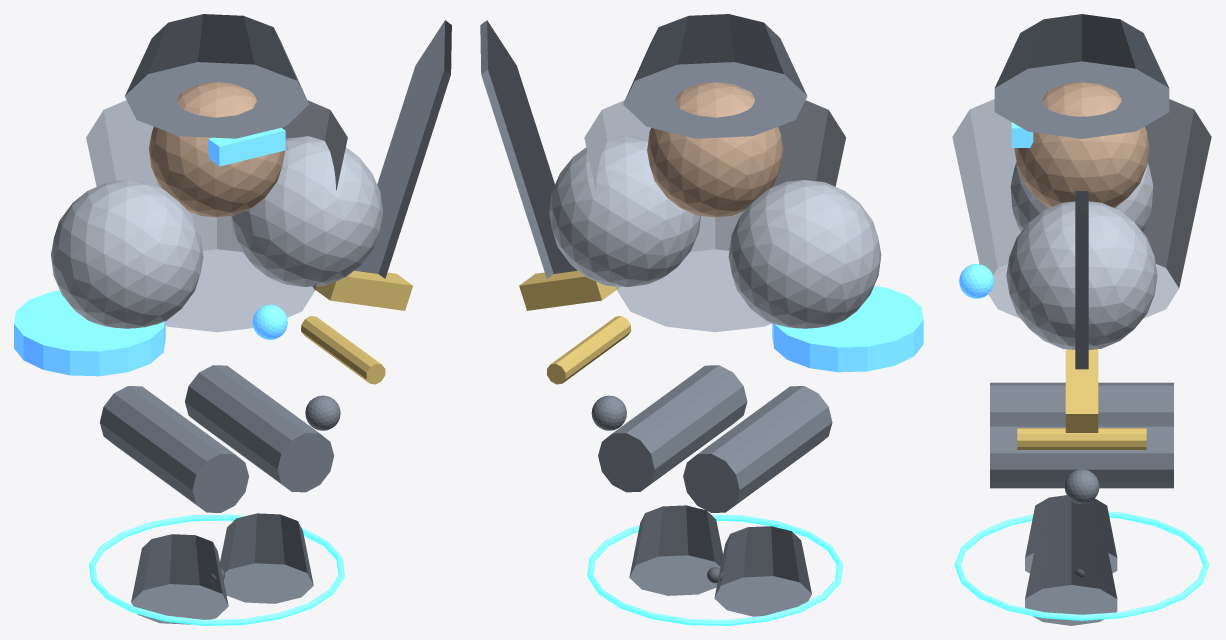
The model's file is arcane-knight-v2.glb.
3 views of the same model, side by side, from view 1: azimuth 30°, elevation 25°; view 2: azimuth 150°, elevation 25°; view 3: azimuth 270°, elevation 25° (orthographic).
Parts seen in each view (by area): view 1: Shoulder_-1, Shoulder_1, Helmet, Torso, Leg_1, Leg_-1, Head, Shield, Weapon_0, Boot_1, Boot_-1, SelectionRing (+5 smaller); view 2: Shoulder_-1, Shoulder_1, Helmet, Torso, Head, Leg_1, Leg_-1, Shield, Weapon_0, Boot_-1, Boot_1, SelectionRing (+3 smaller); view 3: Torso, Shoulder_1, Helmet, Head, Leg_1, Boot_1, Leg_-1, Boot_-1, SelectionRing, Weapon_2, Weapon_1, Weapon_0 (+4 smaller).
Boxes of the visible parts, <box> form: Shoulder_-1: <box>51,180,203,328</box>; Shoulder_1: <box>231,136,382,286</box>; Helmet: <box>125,14,308,138</box>; Torso: <box>86,100,347,332</box>; Leg_1: <box>185,365,334,492</box>; Leg_-1: <box>99,386,248,512</box>; Head: <box>149,82,284,217</box>; Shield: <box>14,290,165,376</box>; Weapon_0: <box>354,20,451,278</box>; Boot_1: <box>220,513,313,603</box>; Boot_-1: <box>131,534,228,624</box>; SelectionRing: <box>89,514,344,625</box>; Shoulder_-1: <box>728,180,881,328</box>; Shoulder_1: <box>549,136,700,286</box>; Helmet: <box>623,14,807,138</box>; Torso: <box>584,100,845,332</box>; Head: <box>647,82,783,217</box>; Leg_1: <box>598,365,747,492</box>; Leg_-1: <box>683,386,832,512</box>; Shield: <box>772,286,923,372</box>; Weapon_0: <box>480,20,577,278</box>; Boot_-1: <box>714,526,811,616</box>; Boot_1: <box>629,505,722,595</box>; SelectionRing: <box>587,514,843,625</box>; Torso: <box>952,99,1211,318</box>; Shoulder_1: <box>1006,201,1157,349</box>; Helmet: <box>994,14,1169,138</box>; Head: <box>1014,82,1149,207</box>; Leg_1: <box>990,423,1173,488</box>; Boot_1: <box>1025,535,1117,625</box>; Leg_-1: <box>990,382,1173,423</box>; Boot_-1: <box>1025,495,1117,573</box>; SelectionRing: <box>954,511,1209,620</box>; Weapon_2: <box>1017,428,1146,449</box>; Weapon_1: <box>1065,349,1098,432</box>; Weapon_0: <box>1075,191,1088,369</box>.
Bounding box in the file's own units: 1.81 × 2.22 × 0.96.
